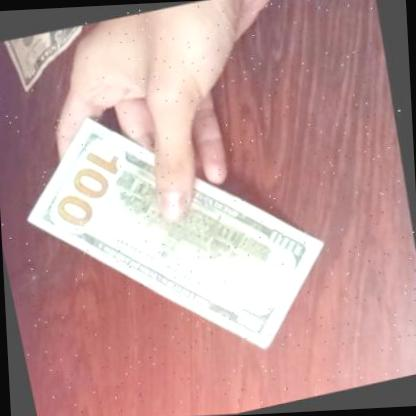one_hundred-back: (0, 62, 357, 397)
